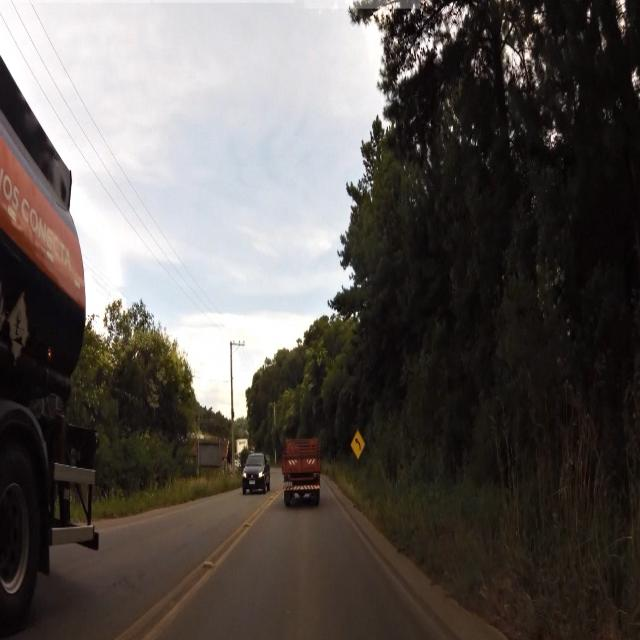A-2a: (350, 431, 365, 460)
